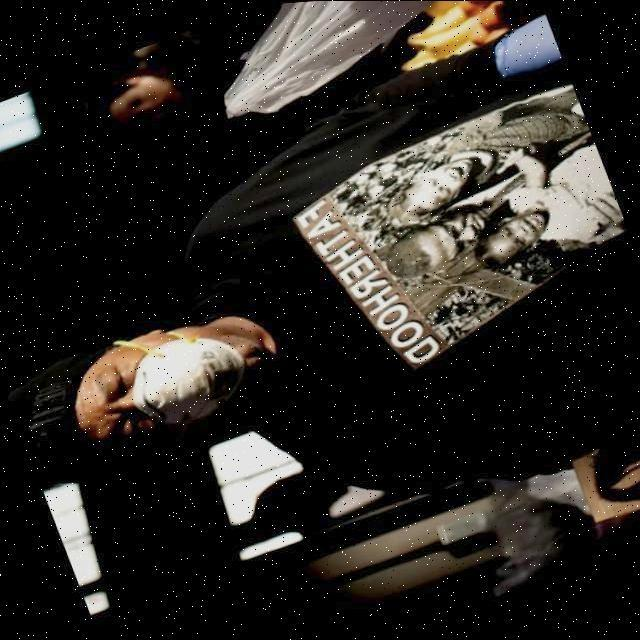mask: (148, 340, 232, 426)
